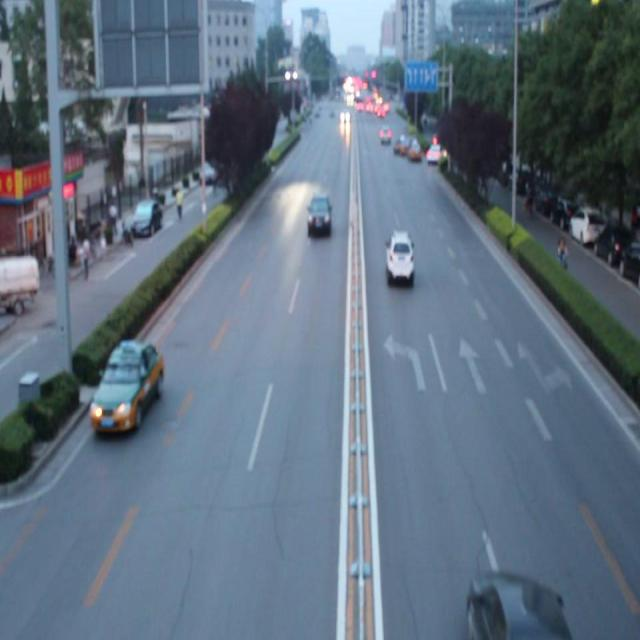car: (464, 565, 570, 640), (92, 340, 164, 432), (383, 228, 415, 284), (304, 189, 332, 239)
